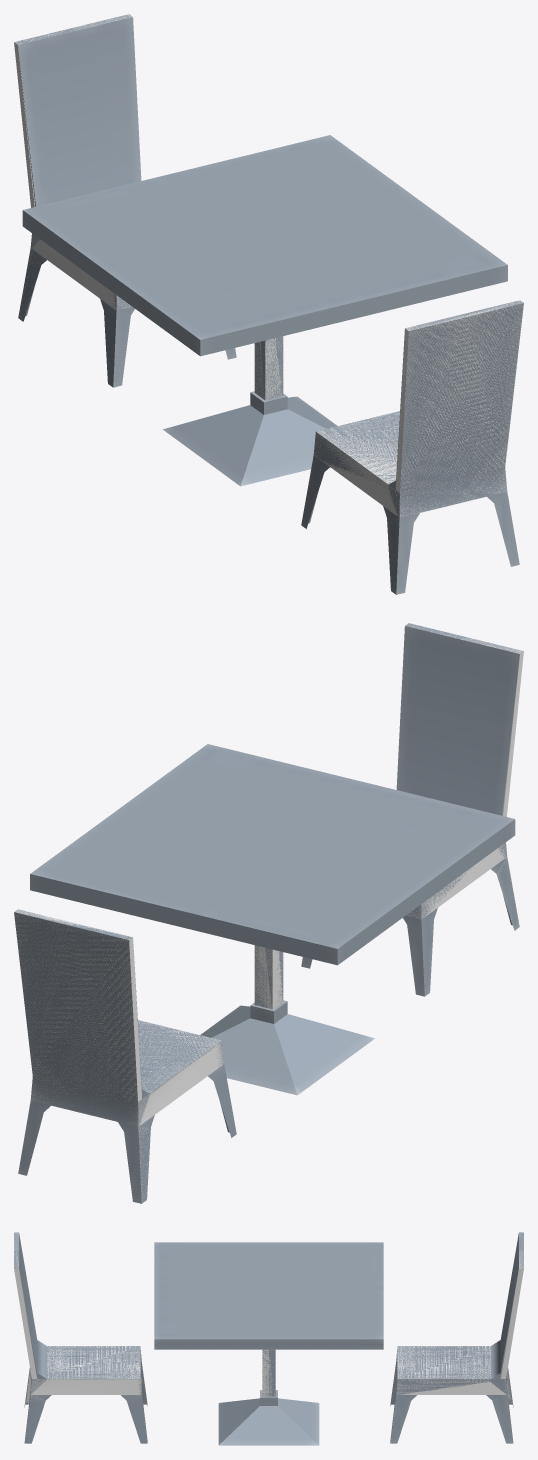
The model's file is objects_un_c01table04.gltf.
3 renders of one model, top to bottom at view 1: azimuth 30°, elevation 25°; view 2: azimuth 150°, elevation 25°; view 3: azimuth 270°, elevation 25°, orthographic. The views are drawn at different scales.
Parts seen in each view (by area): view 1: um_objects_un_c01table04_model_lod0Shape:objects_un_c01table (×2); view 2: um_objects_un_c01table04_model_lod0Shape:objects_un_c01table (×2); view 3: um_objects_un_c01table04_model_lod0Shape:objects_un_c01table (×2).
Part boxes in pixels (bbox=[...]): um_objects_un_c01table04_model_lod0Shape:objects_un_c01table (×2): bbox=[14, 14, 523, 594]; um_objects_un_c01table04_model_lod0Shape:objects_un_c01table (×2): bbox=[14, 623, 523, 1203]; um_objects_un_c01table04_model_lod0Shape:objects_un_c01table (×2): bbox=[14, 1232, 523, 1445].
Size of what is drawn, in the model's own units: 1.18 by 0.9841 by 2.62.
2 materials, 1 textured.
